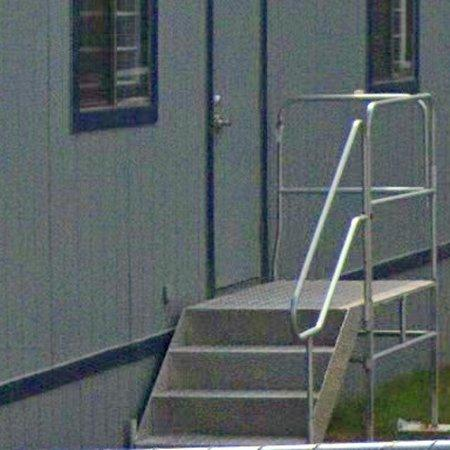stairs: (314, 307, 346, 390)
